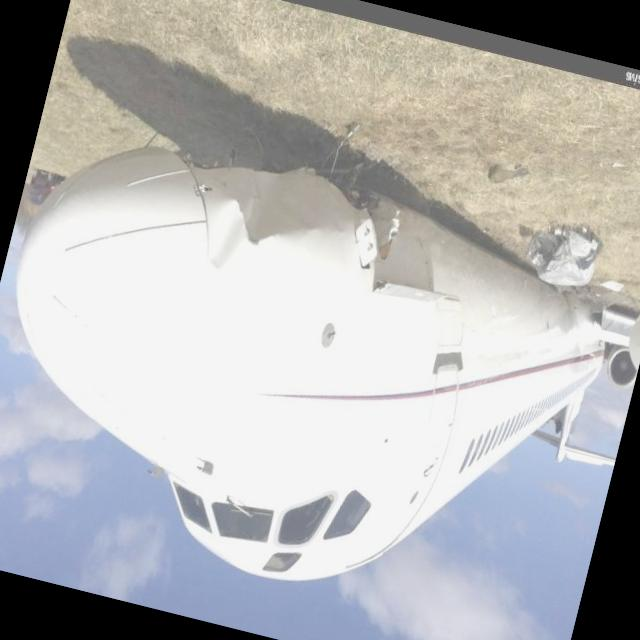dent: (202, 194, 256, 276)
